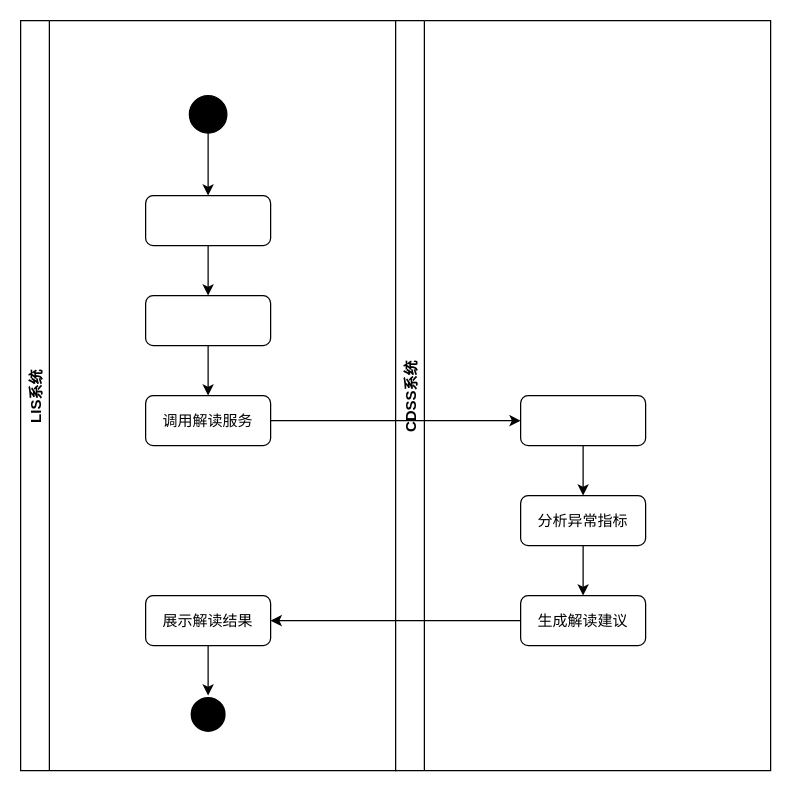
Some shapes in this 791 by 791 pixel diagram are drawn without their labels. The shapes that lost their labels are listed below. From the top down, each one's centre as x and y in pixels, then its label:
At (x=207, y=220): "接收解读请求".
At (x=207, y=320): "准备检验数据".
At (x=582, y=420): "验证数据规范".
